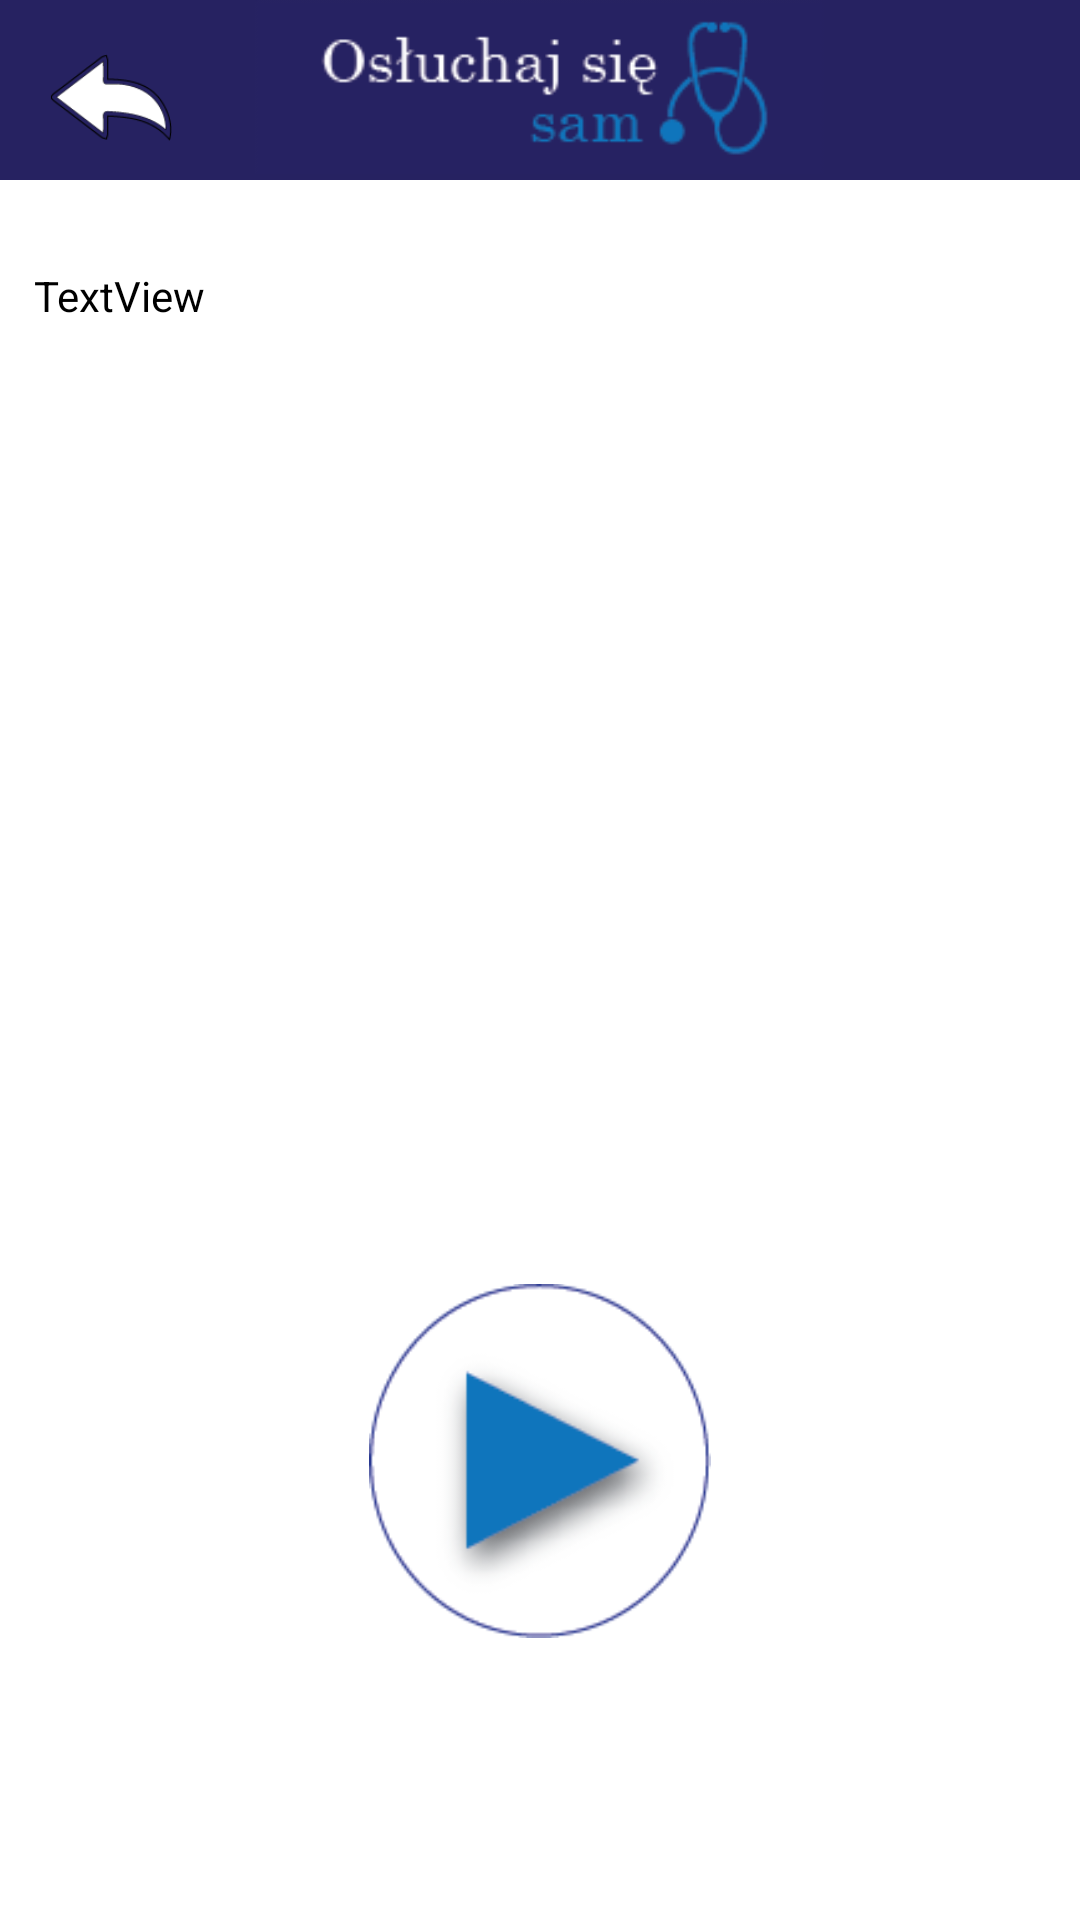

Where icons sit on this 1080 x 1920 app screen, as (x1, y1, x2, y2):
back: (51, 55, 172, 141)
